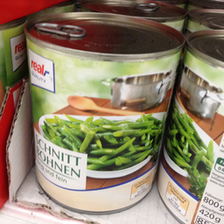beans: (25, 11, 186, 221), (160, 29, 223, 224)
